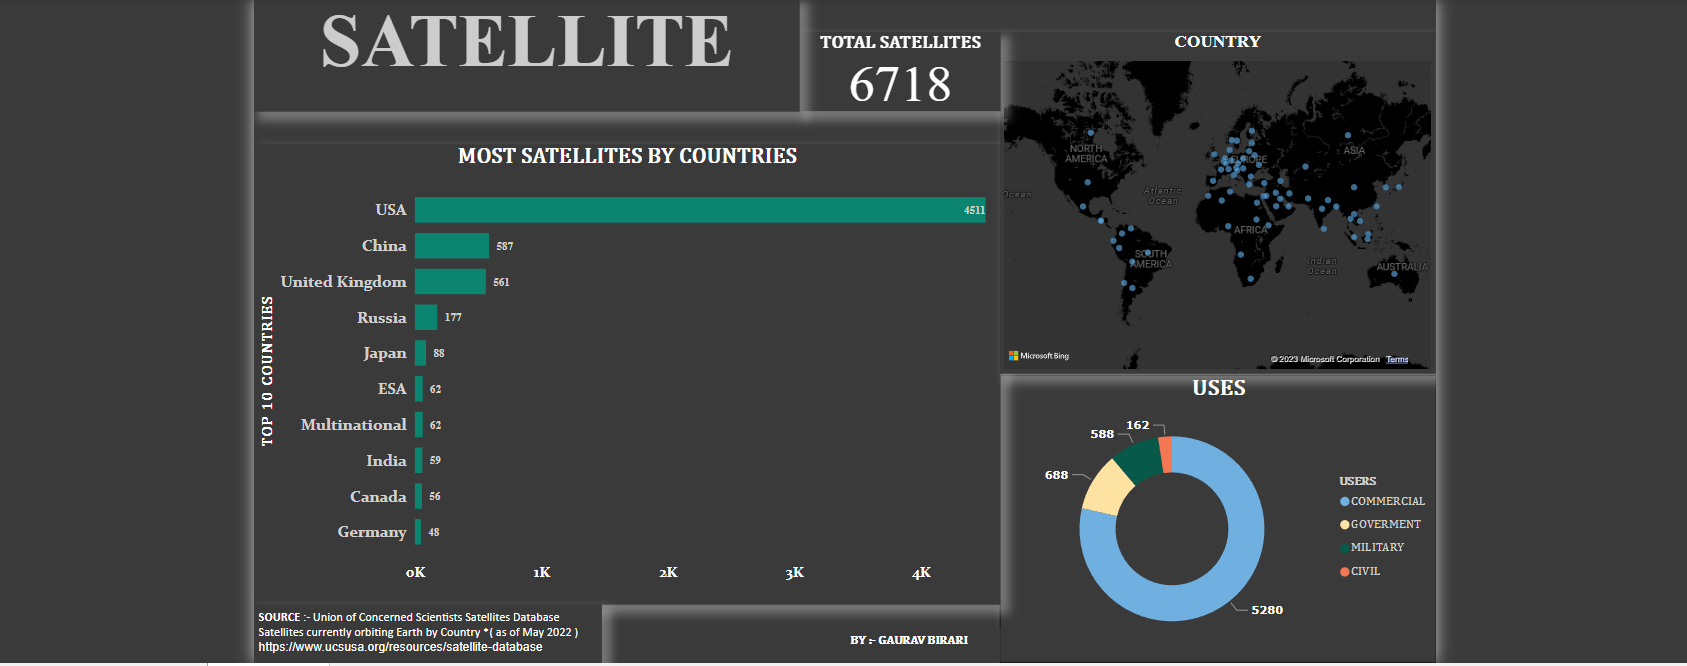

The dashboard page shown, as its layout file describes it:
{"tool":"powerbi","page":{"name":"Page 1","canvas":[1280,720],"ordinal":0},"visuals":[{"type":"donutChart","title":"USES","fields":{"Y":["Sum(USERS.NO. OF SATELLITES)"],"Category":["USERS.USERS"]},"box":[808,407.4,472.5,311.6],"z":0},{"type":"clusteredBarChart","title":"MOST SATELLITES BY COUNTRIES","fields":{"Category":["COUNTIRES.COUNTRY"],"Y":["Sum(COUNTIRES.NO OF SATELLITES)"]},"box":[0,157.5,808,498.2],"z":1000},{"type":"textbox","box":[0,656.1,376.5,65.1],"z":2000},{"type":"map","fields":{"Category":["COUNTIRES.COUNTRY"]},"box":[807.3,37.6,471.9,370],"z":3000},{"type":"kpi","title":"TOTAL SATELLITES","fields":{"TrendLine":["USERS.NO. OF SATELLITES"],"Indicator":["Sum(COUNTIRES.NO OF SATELLITES)"]},"box":[590.6,37.7,217.4,85.6],"z":4000},{"type":"textbox","box":[640.3,683.1,167.8,36],"z":5000},{"type":"textbox","title":"SATELLITE","box":[0,0,590.6,123.3],"z":6000}]}

Visuals, with their boxes in screenshot pixels (x1, y1, x2, y2):
"USES" donutChart: <bbox>1003, 373, 1435, 658</bbox>
"MOST SATELLITES BY COUNTRIES" clusteredBarChart: <bbox>264, 144, 1003, 600</bbox>
textbox: <bbox>264, 600, 608, 660</bbox>
map - COUNTIRES.COUNTRY: <bbox>1002, 34, 1434, 373</bbox>
"TOTAL SATELLITES" kpi: <bbox>804, 34, 1003, 113</bbox>
textbox: <bbox>849, 625, 1003, 658</bbox>
"SATELLITE" textbox: <bbox>264, 0, 804, 113</bbox>
